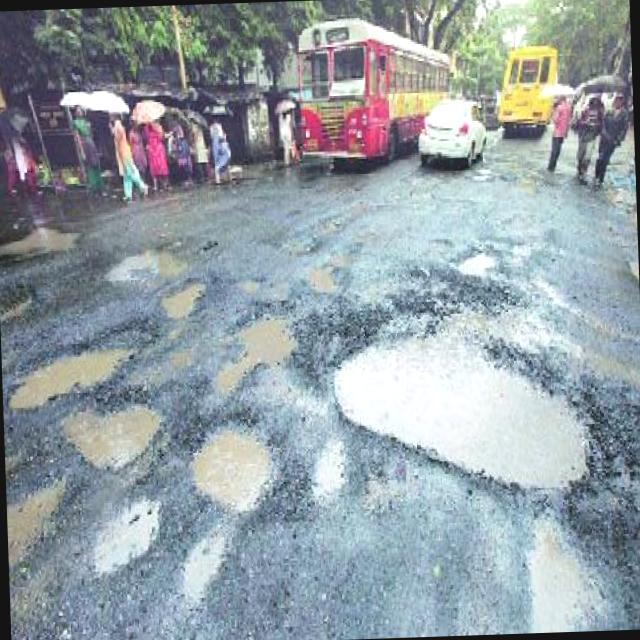Lubang: (334, 339, 582, 487), (527, 516, 604, 632), (9, 350, 132, 408), (193, 429, 270, 510), (63, 406, 160, 468), (216, 318, 293, 393), (7, 480, 64, 564), (93, 503, 160, 573), (183, 530, 225, 602), (106, 250, 185, 280), (312, 439, 346, 499), (306, 253, 352, 293), (162, 282, 205, 318), (457, 252, 494, 276)
